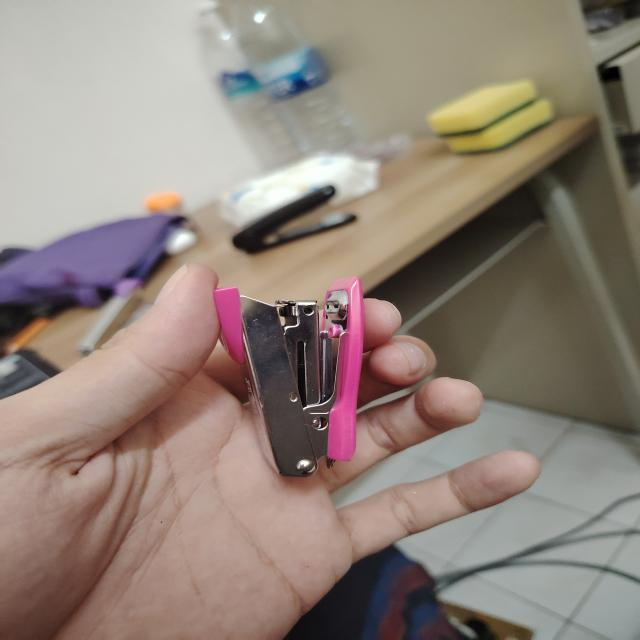stapler: (213, 277, 363, 477), (233, 186, 356, 254)
